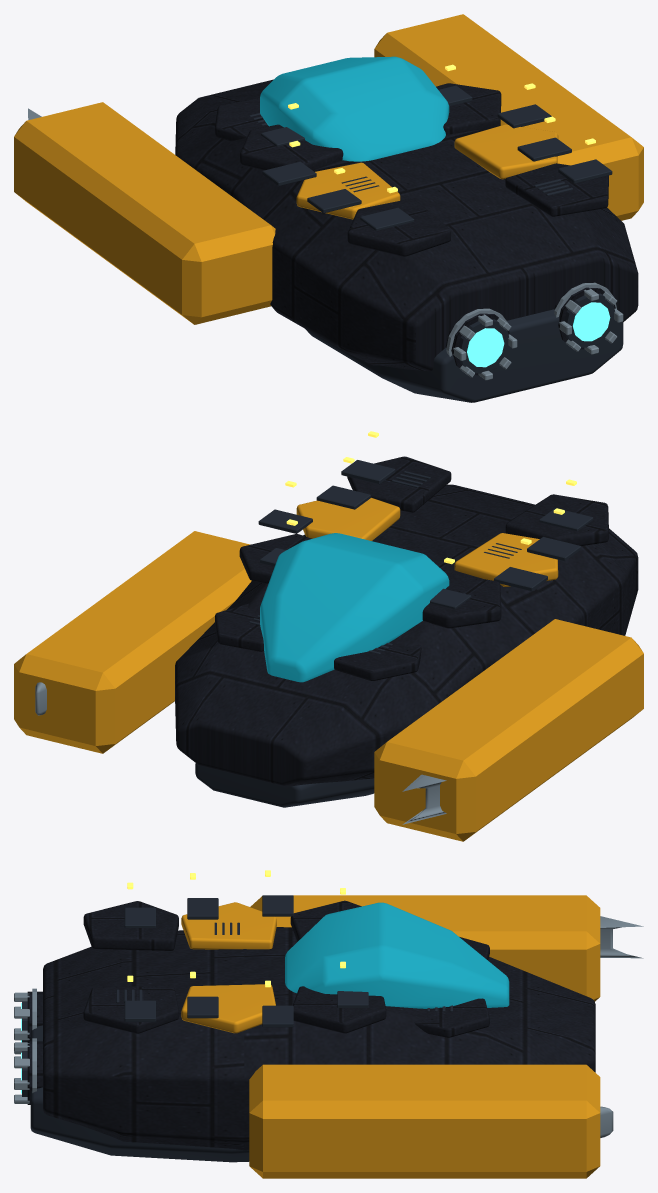
File: excavator.glb
3 renders of one model, top to bottom at view 1: azimuth 30°, elevation 25°; view 2: azimuth 150°, elevation 25°; view 3: azimuth 270°, elevation 25°, orthographic. The views are drawn at different scales.
Parts seen in each view (by area): view 1: Gôndola do motor.017 · exportação, Colar da turbina.052 · exportação, Bocal do motor.017 · exportação, Cabine panorâmica.008 · exportação, Aleta do bocal.143 · exportação, Núcleo propulsor.017 · exportação; view 2: Colar da turbina.052 · exportação, Gôndola do motor.017 · exportação, Cabine panorâmica.008 · exportação, Bocal do motor.017 · exportação, Aleta do bocal.143 · exportação; view 3: Gôndola do motor.017 · exportação, Colar da turbina.052 · exportação, Cabine panorâmica.008 · exportação, Bocal do motor.017 · exportação, Aleta do bocal.143 · exportação.
Part boxes in pixels (x1=…): Gôndola do motor.017 · exportação: x1=175, y1=79, x2=638, y2=375; Colar da turbina.052 · exportação: x1=14, y1=14, x2=643, y2=324; Bocal do motor.017 · exportação: x1=249, y1=85, x2=623, y2=402; Cabine panorâmica.008 · exportação: x1=260, y1=56, x2=449, y2=161; Aleta do bocal.143 · exportação: x1=28, y1=108, x2=623, y2=380; Núcleo propulsor.017 · exportação: x1=467, y1=302, x2=610, y2=367; Colar da turbina.052 · exportação: x1=14, y1=497, x2=643, y2=841; Gôndola do motor.017 · exportação: x1=175, y1=456, x2=638, y2=786; Cabine panorâmica.008 · exportação: x1=260, y1=533, x2=449, y2=682; Bocal do motor.017 · exportação: x1=195, y1=460, x2=593, y2=807; Aleta do bocal.143 · exportação: x1=35, y1=682, x2=446, y2=824; Gôndola do motor.017 · exportação: x1=27, y1=900, x2=595, y2=1150; Colar da turbina.052 · exportação: x1=181, y1=895, x2=600, y2=1178; Cabine panorâmica.008 · exportação: x1=285, y1=902, x2=509, y2=1008; Bocal do motor.017 · exportação: x1=22, y1=895, x2=452, y2=1162; Aleta do bocal.143 · exportação: x1=14, y1=916, x2=643, y2=1137.
Bounding box in the file's own units: 41 × 17.98 × 50.35.
7 materials, 1 textured.
